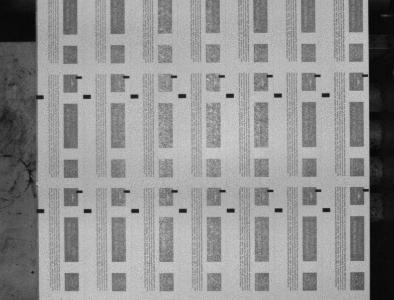qblock: (179, 208, 187, 213), (227, 208, 235, 213), (37, 208, 45, 213), (83, 94, 91, 99), (226, 93, 234, 98), (274, 93, 282, 98), (178, 94, 187, 98), (130, 94, 139, 98), (84, 209, 92, 213), (131, 209, 139, 213), (275, 208, 283, 212), (323, 208, 331, 212), (36, 95, 44, 99), (322, 93, 330, 97)
smallqblock: (172, 189, 178, 193), (171, 75, 178, 78), (76, 190, 83, 193), (219, 75, 226, 78), (123, 76, 130, 79), (363, 188, 370, 191), (124, 190, 130, 193), (268, 189, 274, 192), (220, 189, 226, 192), (316, 189, 322, 192), (267, 74, 273, 77), (315, 74, 321, 77), (76, 76, 82, 79), (363, 74, 369, 77)
